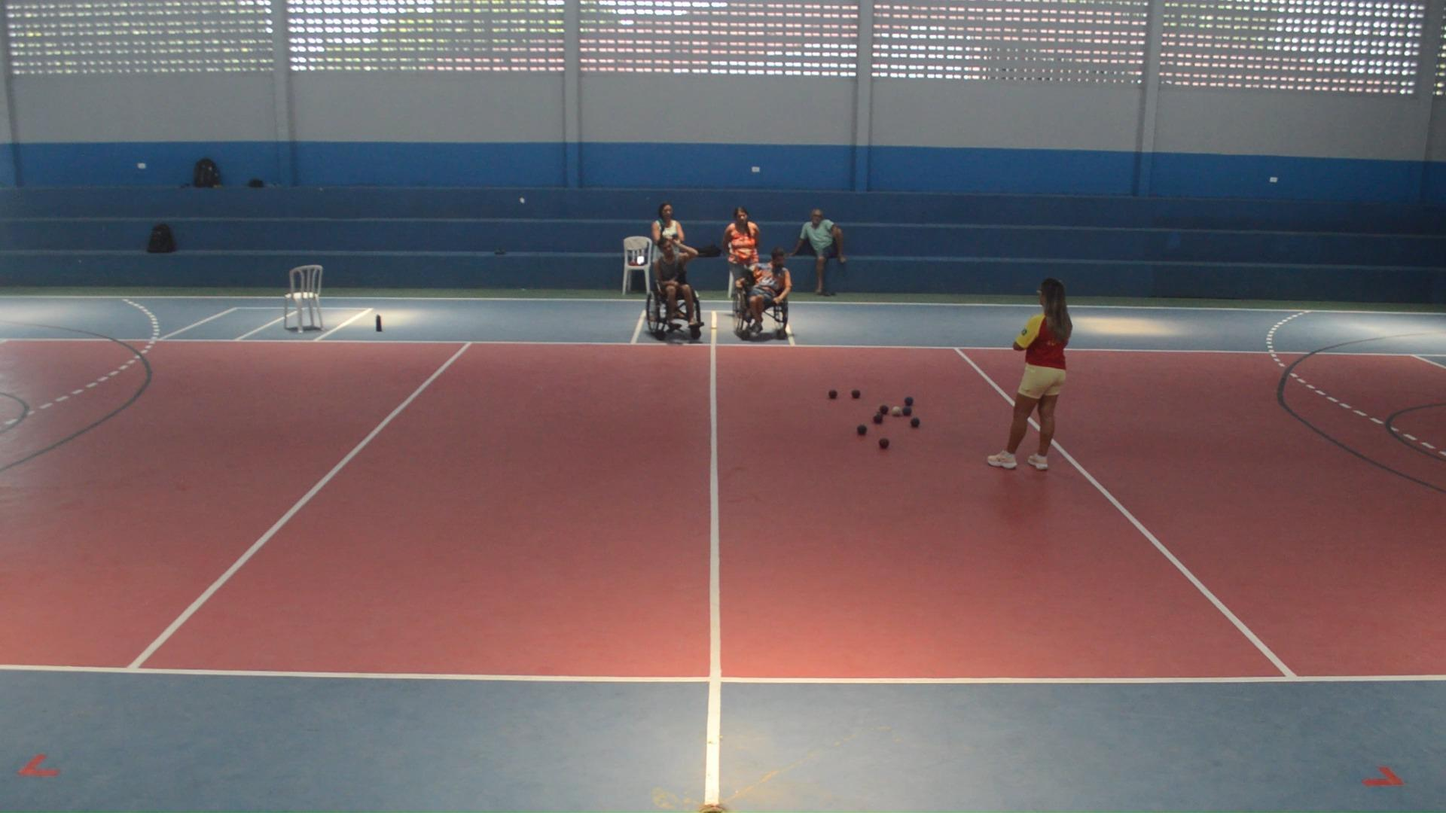blue_ball: (856, 424, 867, 436), (904, 396, 913, 405), (903, 407, 911, 416)
red_ball: (872, 412, 883, 423), (879, 437, 889, 448), (878, 405, 889, 415), (851, 389, 861, 399), (828, 389, 837, 400)
white_ball: (892, 406, 901, 417)
